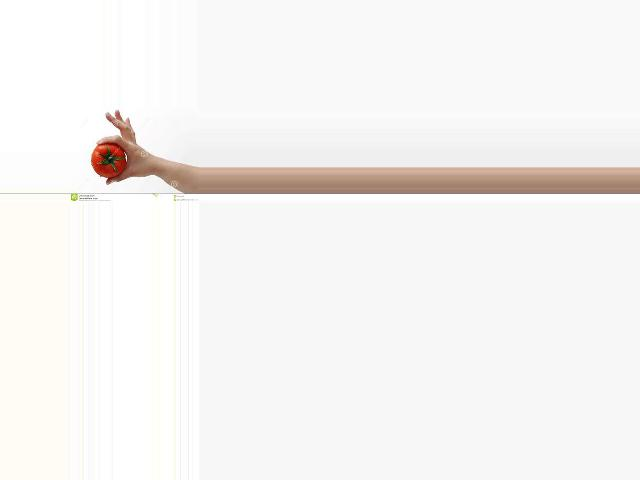tomato: (91, 143, 126, 178)
